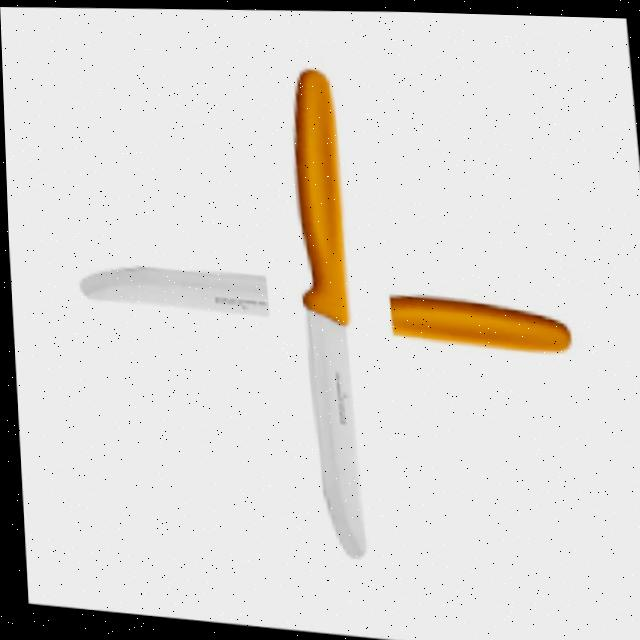knife: (75, 249, 571, 363), (285, 64, 365, 561)
